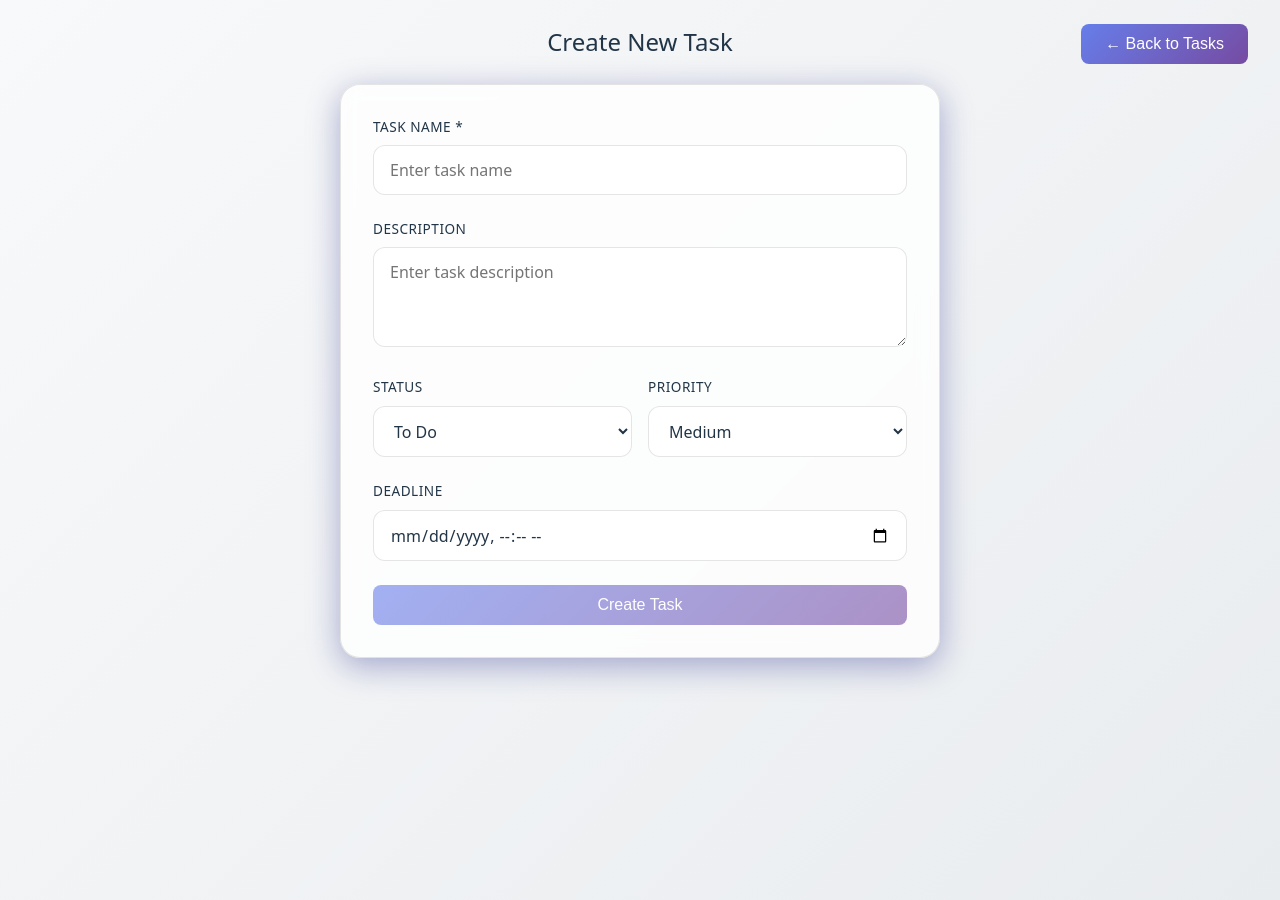
it: CreateTaskPage › displays error message when task creation fails
Step 1. Type "New Task" into the field labelled "Task Name *" → (640, 170), box [373,145,907,195]
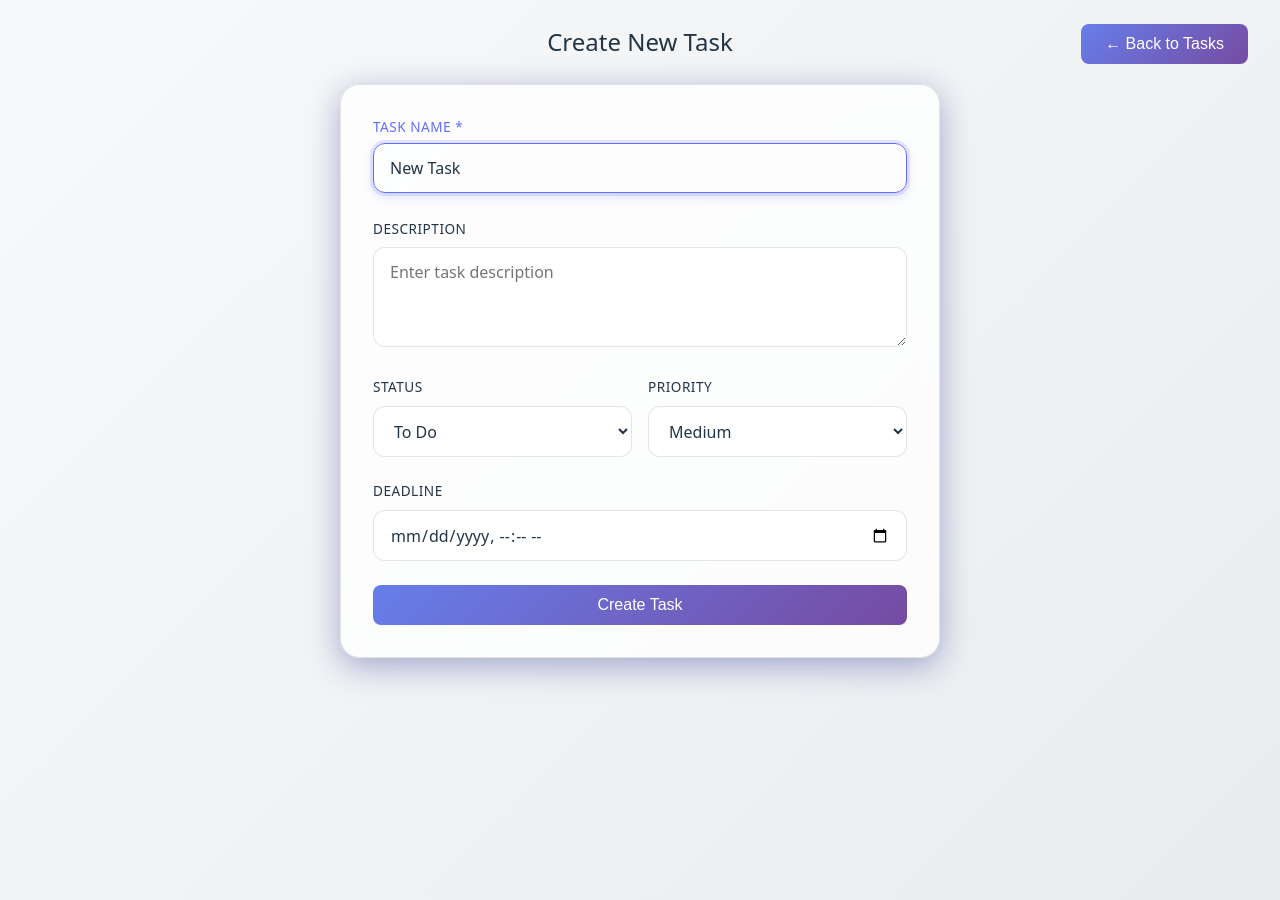
Step 2. Click the button "Create Task" → (640, 605), box [373,585,907,625]
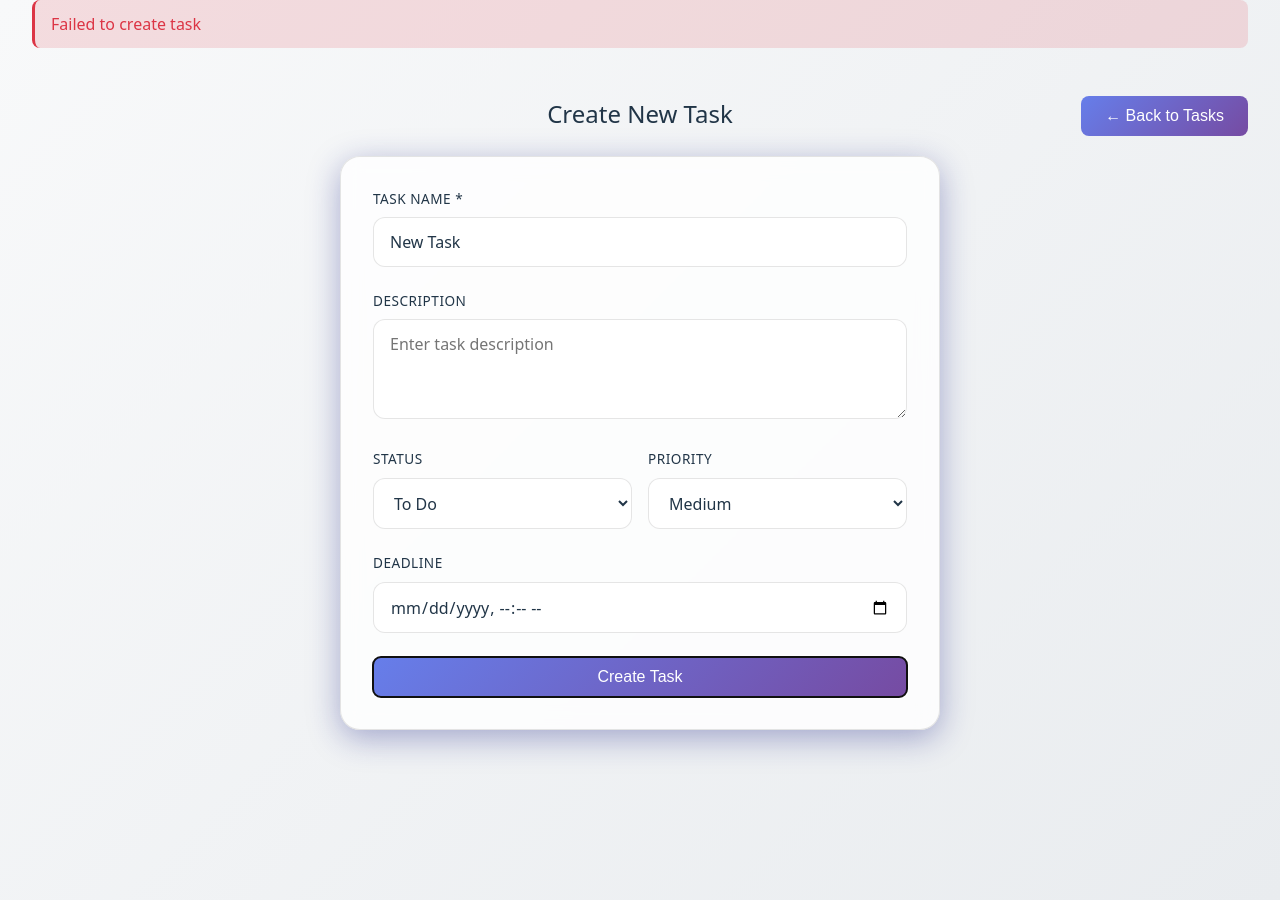
Result: the text "Failed to create task" is shown at [32,0,1248,48]
